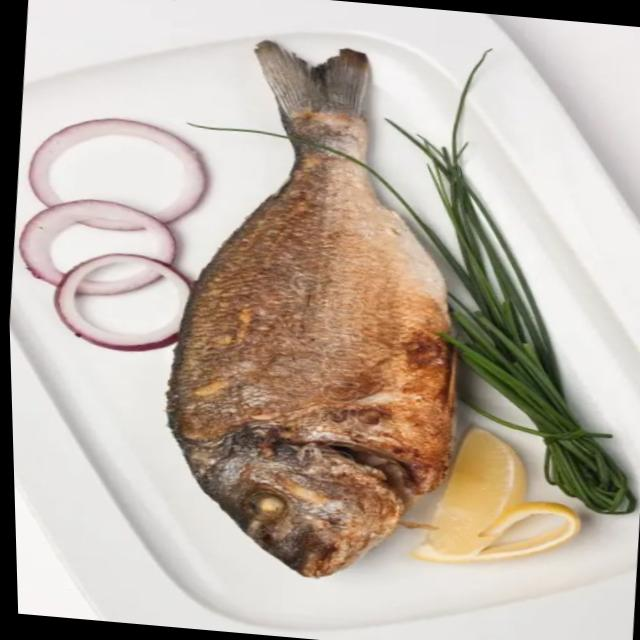FISH FRY: (166, 140, 452, 577), (253, 41, 366, 159)
